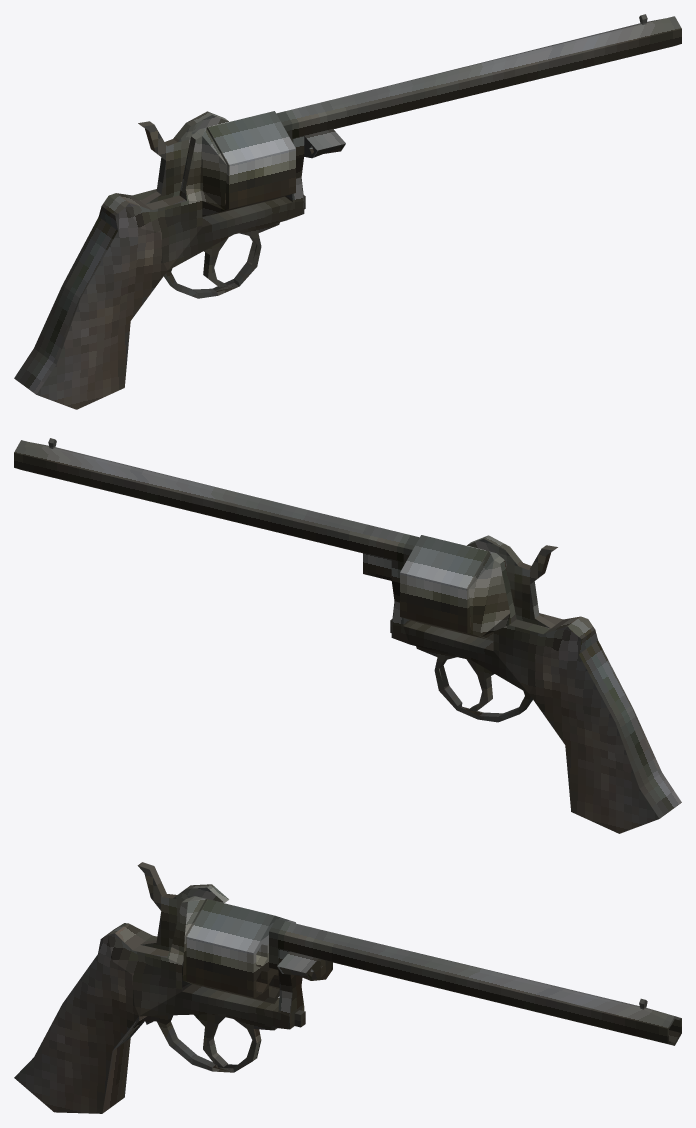
File: revolver.glb
The picture shows the model from 3 angles, top to bottom: view 1: azimuth 30°, elevation 25°; view 2: azimuth 150°, elevation 25°; view 3: azimuth 330°, elevation 25°; orthographic projection.
Visible parts, largest first — view 1: revolver, Cylinder; view 2: revolver, Cylinder; view 3: revolver, Cylinder.
Part boxes in pixels (left/top/right/bottom): revolver: left=14, top=14, right=681, bottom=409; Cylinder: left=206, top=111, right=295, bottom=215; revolver: left=14, top=438, right=681, bottom=833; Cylinder: left=400, top=535, right=489, bottom=639; revolver: left=14, top=862, right=681, bottom=1113; Cylinder: left=186, top=899, right=295, bottom=1003.
Size of the model in its own units: 0.9522 by 0.3622 by 0.1076.
Materials: 1 (1 with a texture image).
